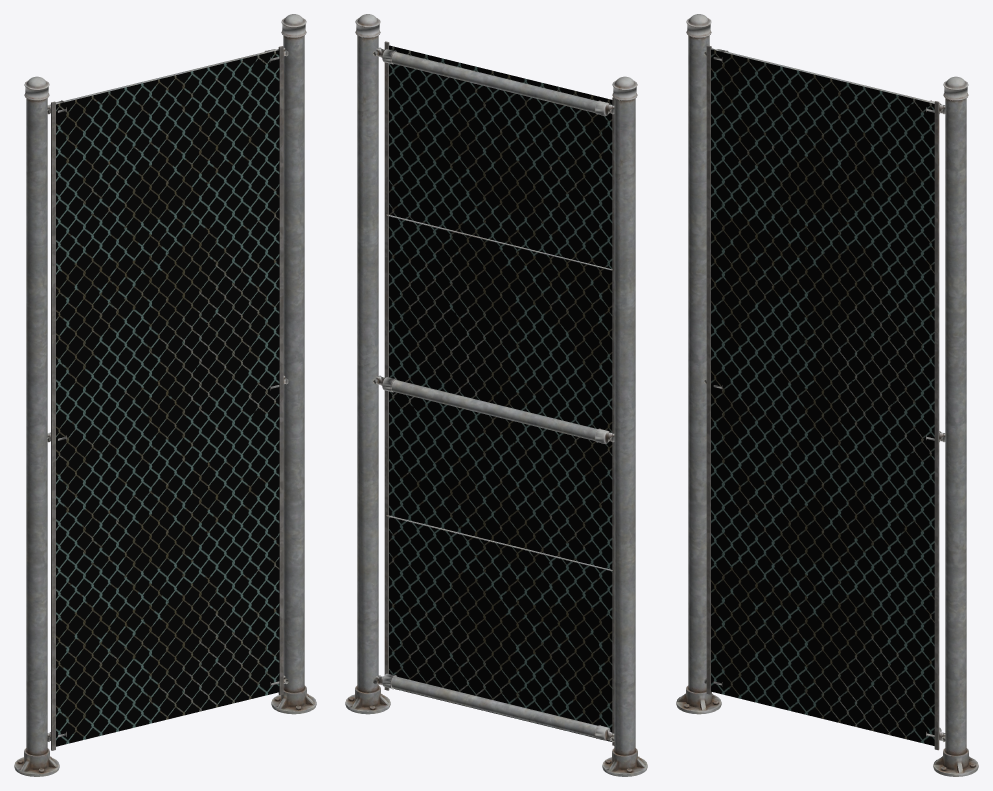
The picture shows the model from 3 angles, left to right: view 1: azimuth 30°, elevation 25°; view 2: azimuth 150°, elevation 25°; view 3: azimuth 330°, elevation 25°; orthographic projection.
Parts seen in each view (by area): view 1: modular_chainlink_fence, modular_chainlink_fence_post.001, modular_chainlink_fence_post.002; view 2: modular_chainlink_fence, modular_chainlink_fence_post.001, modular_chainlink_fence_post.002; view 3: modular_chainlink_fence, modular_chainlink_fence_post.002, modular_chainlink_fence_post.001.
Boxes of the visible parts, box(x1,y1,x2,y2) form: modular_chainlink_fence: box(47, 46, 288, 750); modular_chainlink_fence_post.001: box(14, 76, 59, 776); modular_chainlink_fence_post.002: box(271, 14, 316, 714); modular_chainlink_fence: box(373, 41, 614, 745); modular_chainlink_fence_post.001: box(602, 76, 647, 776); modular_chainlink_fence_post.002: box(345, 14, 390, 714); modular_chainlink_fence: box(704, 45, 945, 750); modular_chainlink_fence_post.002: box(933, 76, 978, 776); modular_chainlink_fence_post.001: box(676, 14, 721, 714).
Size of the model in its own units: 1.13 by 2.52 by 0.1494.
2 materials, 2 textured.
